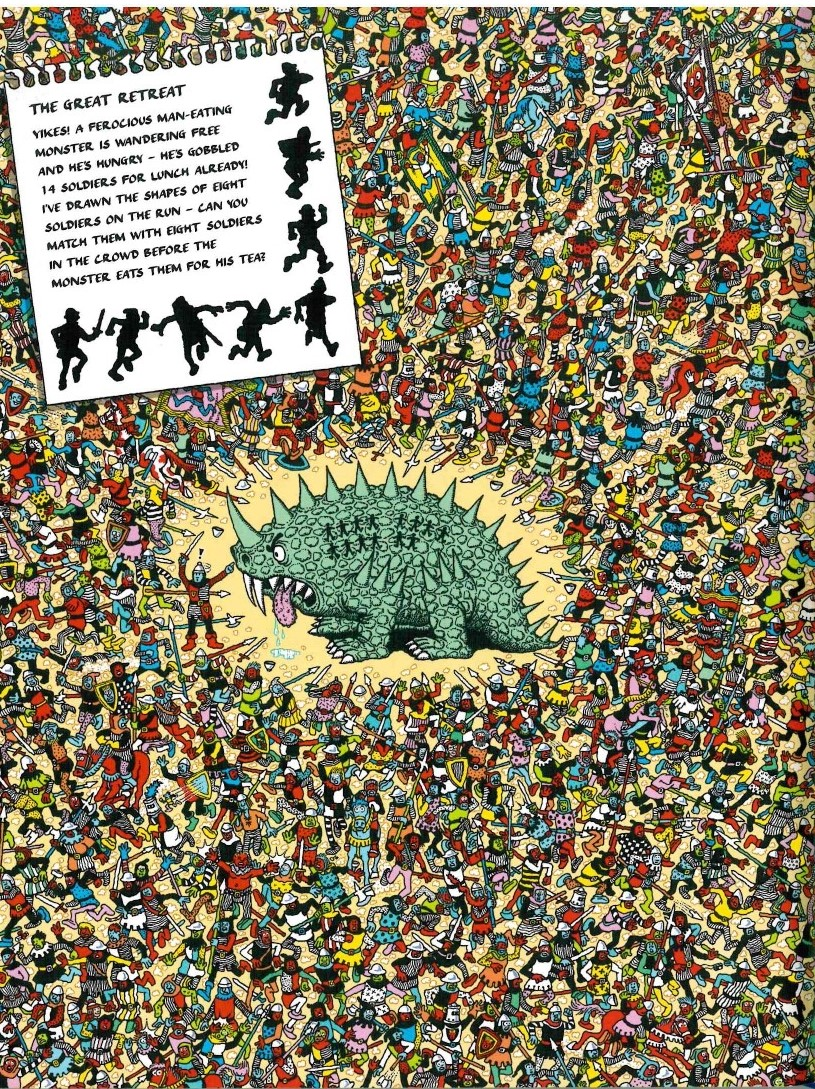waldos: (683, 23, 705, 56)
